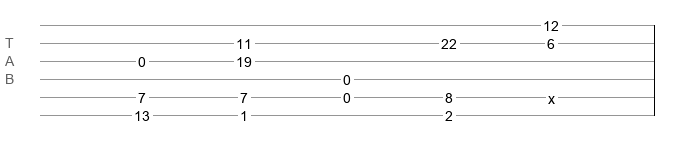0: (138, 54, 146, 64), (343, 90, 351, 100), (343, 72, 351, 82)
1: (240, 108, 248, 118)
11: (236, 36, 252, 46)
12: (543, 18, 559, 28)
13: (134, 108, 150, 118)
19: (236, 54, 252, 64)
2: (445, 108, 453, 118)
22: (441, 36, 457, 46)
6: (547, 36, 555, 46)
7: (138, 90, 146, 100), (240, 90, 248, 100)
8: (445, 90, 453, 100)
x: (548, 91, 555, 99)
